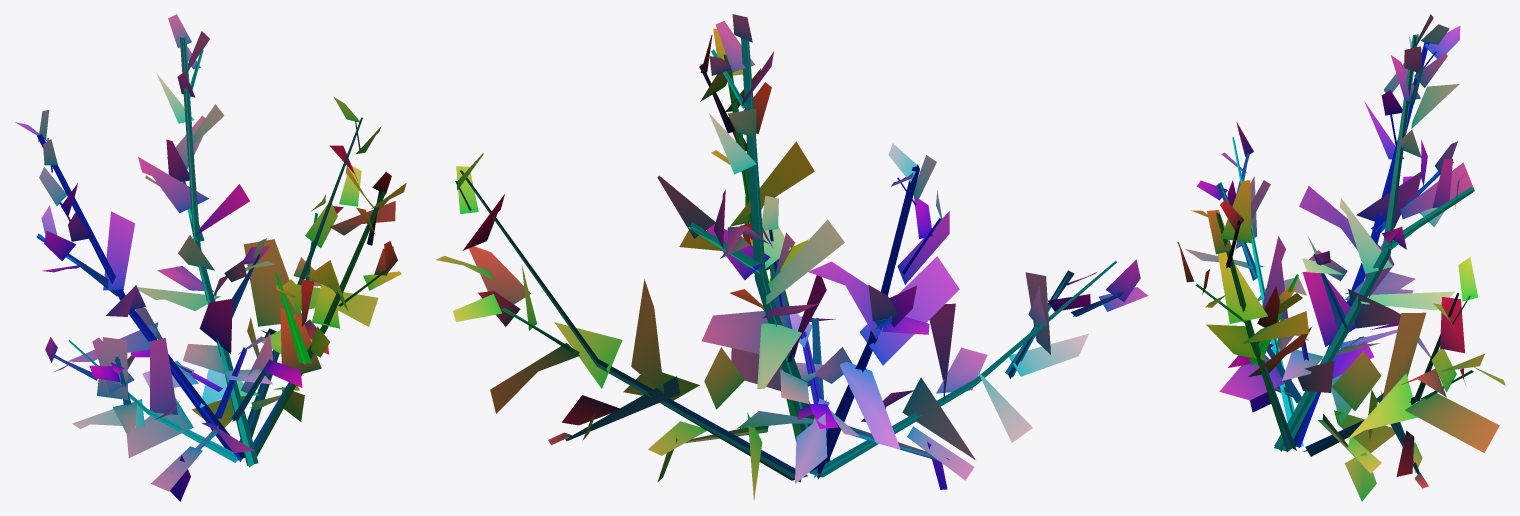
The model's file is Creeping_Saltbush_thckfiqr_Mid_thckfiqr_VarB_LOD2.fbx.
3 renders of one model, left to right at view 1: azimuth 30°, elevation 25°; view 2: azimuth 150°, elevation 25°; view 3: azimuth 270°, elevation 25°, orthographic. The views are drawn at different scales.
Parts seen in each view (by area): view 1: _9397_VarB_LOD3; view 2: _9397_VarB_LOD3; view 3: _9397_VarB_LOD3.
Part boxes in pixels (<box>): _9397_VarB_LOD3: <box>15,14,406,501</box>; _9397_VarB_LOD3: <box>436,14,1148,500</box>; _9397_VarB_LOD3: <box>1177,14,1505,501</box>.
Size of the model in its own units: 45.19 by 40.47 by 27.57.
